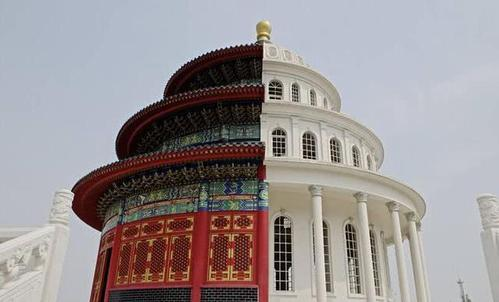buildings: (78, 20, 431, 295)
